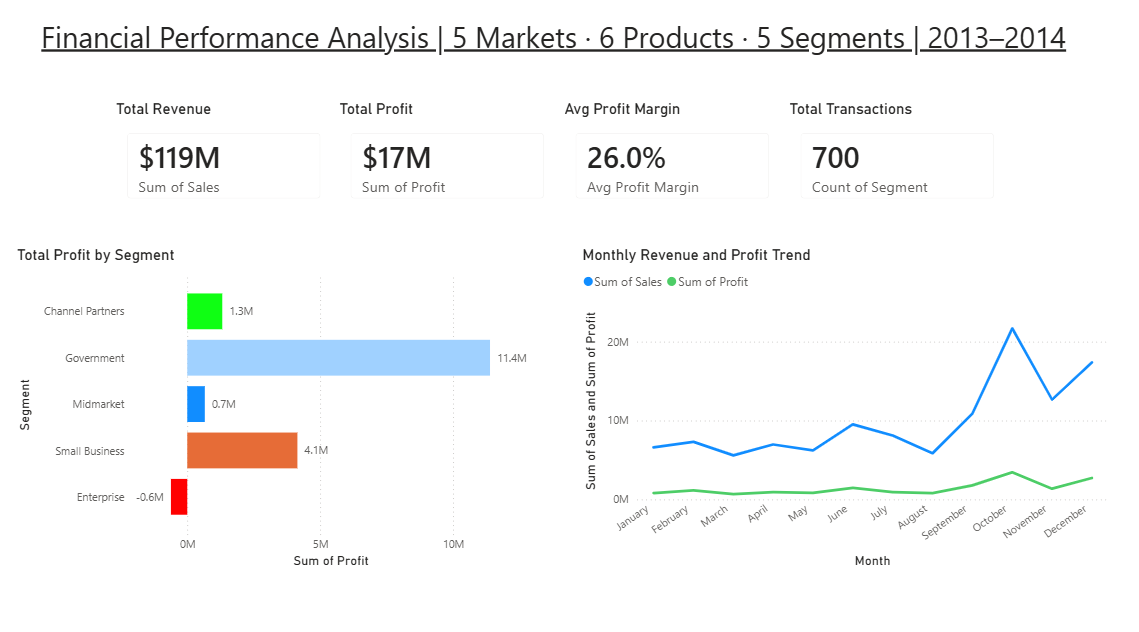

The page's visual inventory and layout, read from the dashboard file:
{"tool":"powerbi","page":{"name":"Executive Summary","canvas":[1280,720],"ordinal":0},"visuals":[{"type":"cardVisual","title":"Total Revenue","fields":{"Data":["Sum(financial_cleaned.Sales)"]},"box":[127.9,116.3,249.5,126.6],"z":0},{"type":"cardVisual","title":"Total Profit","fields":{"Data":["Sum(financial_cleaned.Profit)"]},"box":[377.4,116.3,249.5,126.6],"z":1000},{"type":"cardVisual","title":"Avg Profit Margin","fields":{"Data":["financial_cleaned.Avg Profit Margin"]},"box":[626.8,116.3,249.5,126.6],"z":2000},{"type":"cardVisual","title":"Total Transactions","fields":{"Data":["CountNonNull(financial_cleaned.Segment)"]},"box":[876.3,116.3,249.5,126.6],"z":3000},{"type":"clusteredBarChart","title":"Total Profit by Segment","fields":{"Category":["financial_cleaned.Segment"],"Y":["Sum(financial_cleaned.Profit)"]},"box":[19,277.6,591.5,362.8],"z":4000},{"type":"lineChart","title":"Monthly Revenue and Profit Trend","fields":{"Category":["financial_cleaned.Date.Variation.Date Hierarchy.Month"],"Y":["Sum(financial_cleaned.Sales)","Sum(financial_cleaned.Profit)"]},"box":[646.4,277.6,593.4,362.8],"z":5000},{"type":"textbox","box":[45.4,18.9,1192.5,68],"z":6000}]}

Visuals, with their boxes in screenshot pixels (x1, y1, x2, y2), scaled from the page's 1280x720 canvas onto the 1139x632 screenshot:
"Total Revenue" cardVisual: <bbox>114, 102, 336, 213</bbox>
"Total Profit" cardVisual: <bbox>336, 102, 558, 213</bbox>
"Avg Profit Margin" cardVisual: <bbox>558, 102, 780, 213</bbox>
"Total Transactions" cardVisual: <bbox>780, 102, 1002, 213</bbox>
"Total Profit by Segment" clusteredBarChart: <bbox>17, 244, 543, 562</bbox>
"Monthly Revenue and Profit Trend" lineChart: <bbox>575, 244, 1103, 562</bbox>
textbox: <bbox>40, 17, 1102, 76</bbox>
